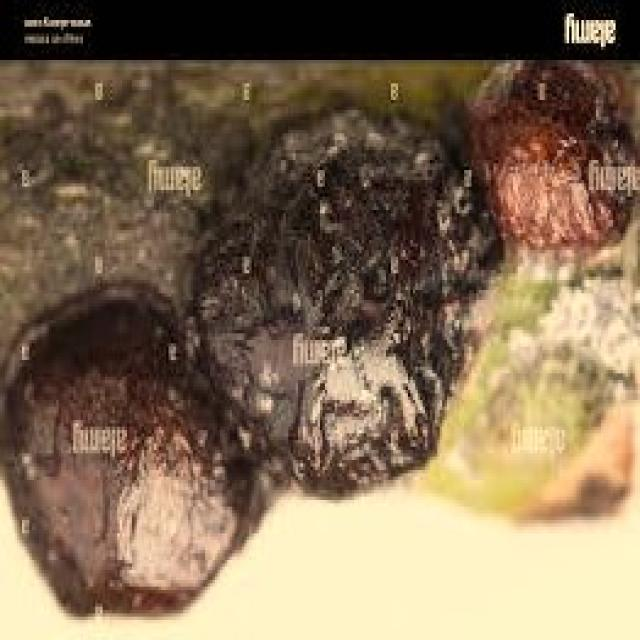Black Scale: (0, 107, 498, 610), (471, 60, 638, 257)
